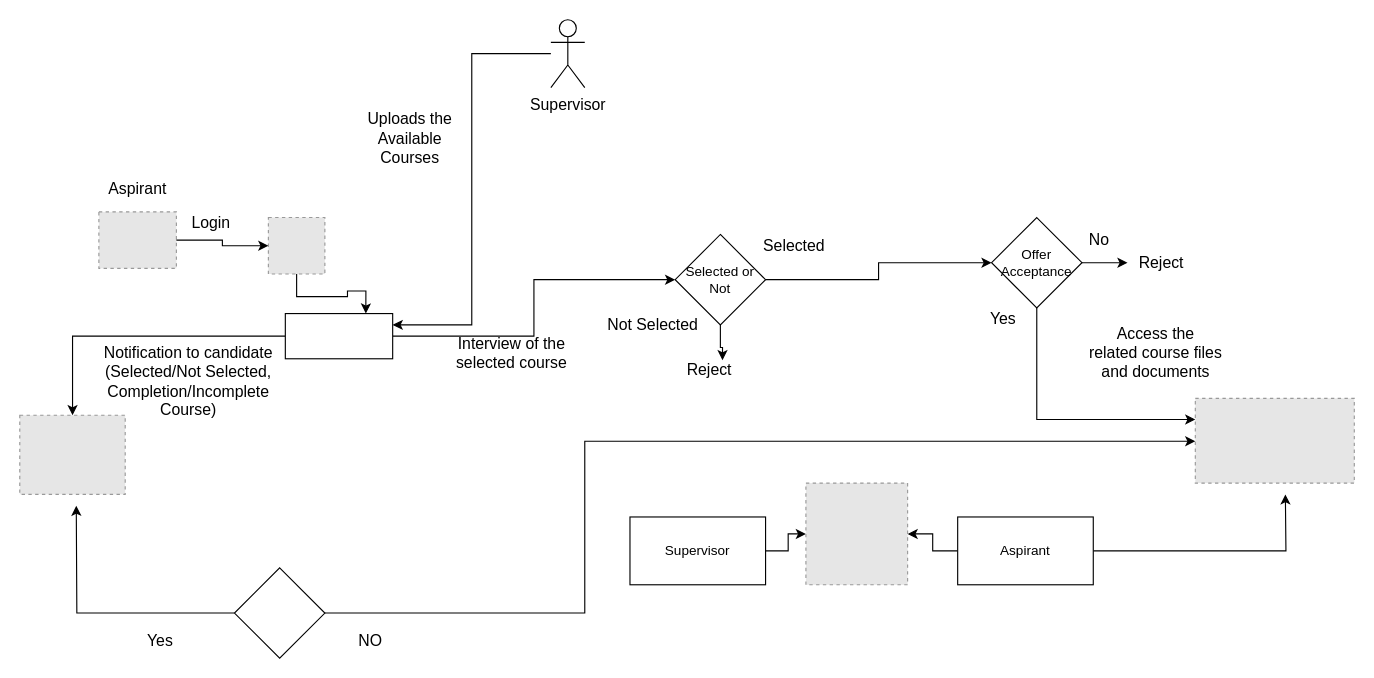
Some shapes in this 1374 by 678 pixel diagram are drawn without their labels. Grey dashed boxes stand in for pictures. The shapes that lost their labels are listed below. From the top down, each one's centre as x and y in pixels, then its label:
point 338,335: course
point 279,612: Course Completion Status
